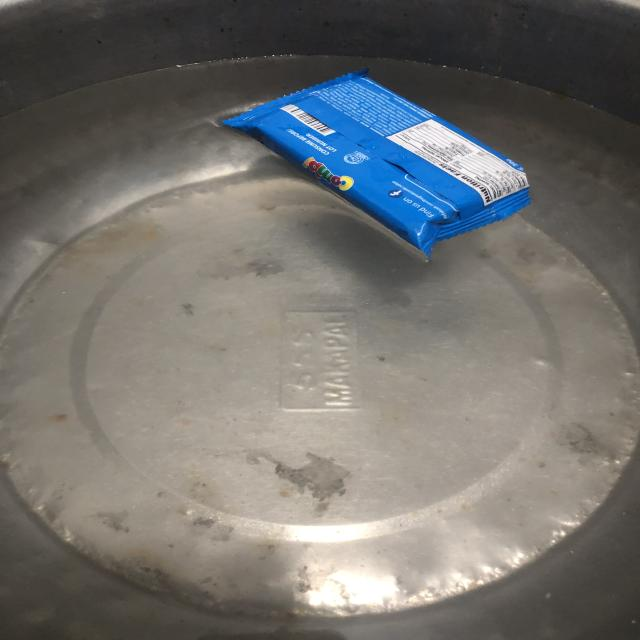Plastic Wrapper: (210, 80, 541, 262)
